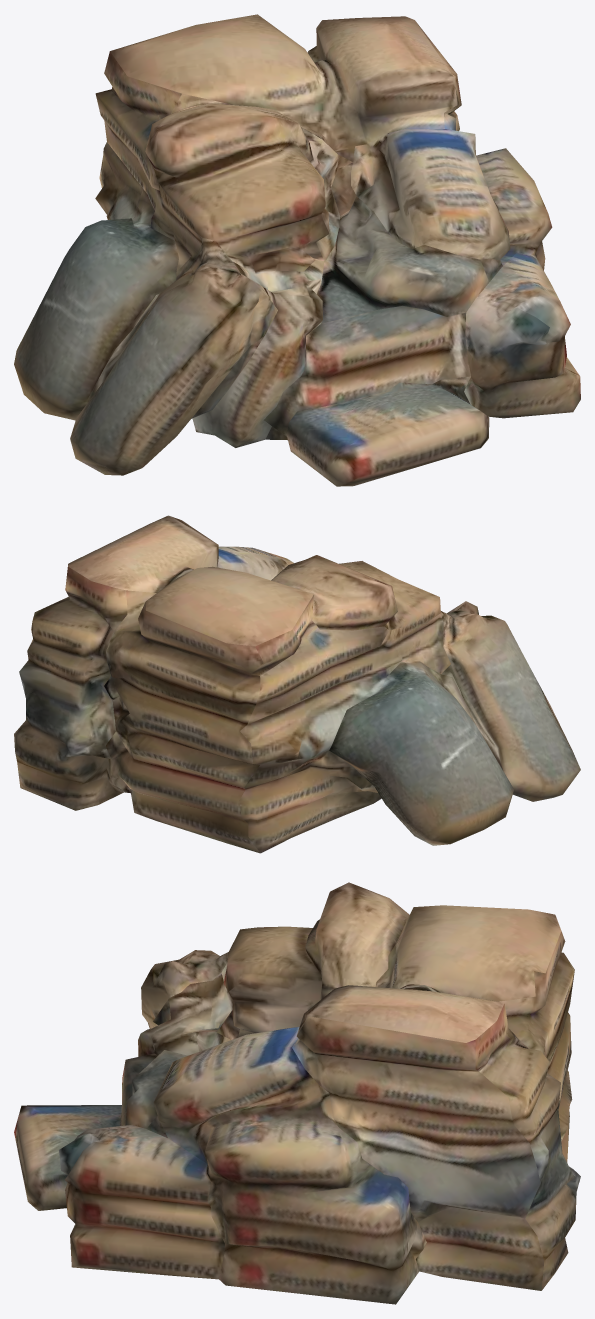
The model's file is cement-bags.glb.
3 views of the same model, one above another, from view 1: azimuth 30°, elevation 25°; view 2: azimuth 150°, elevation 25°; view 3: azimuth 270°, elevation 25° (orthographic). The views are drawn at different scales.
Parts seen in each view (by area): view 1: lp_M_cement_0; view 2: lp_M_cement_0; view 3: lp_M_cement_0.
Part boxes in pixels (<box>): lp_M_cement_0: <box>14,14,580,486</box>; lp_M_cement_0: <box>14,515,580,853</box>; lp_M_cement_0: <box>14,882,580,1304</box>.
Bounding box in the file's own units: 1.97 × 0.9876 × 1.85.
Materials: 1 (1 with a texture image).
